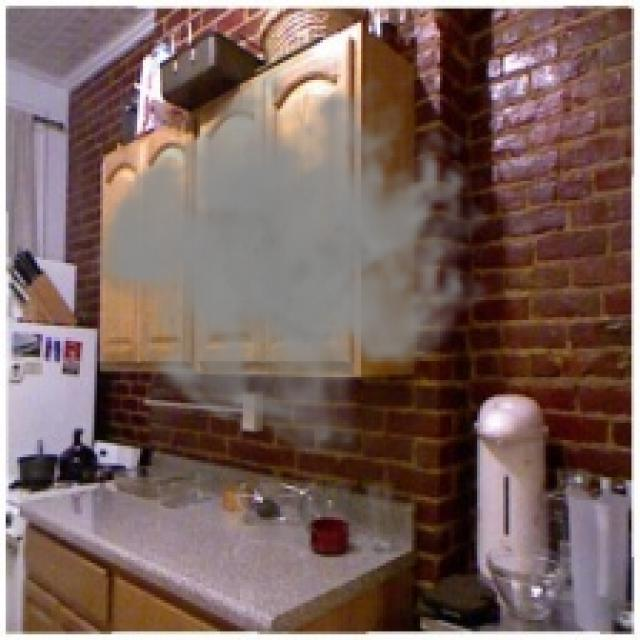Smoke: (89, 51, 492, 463)
